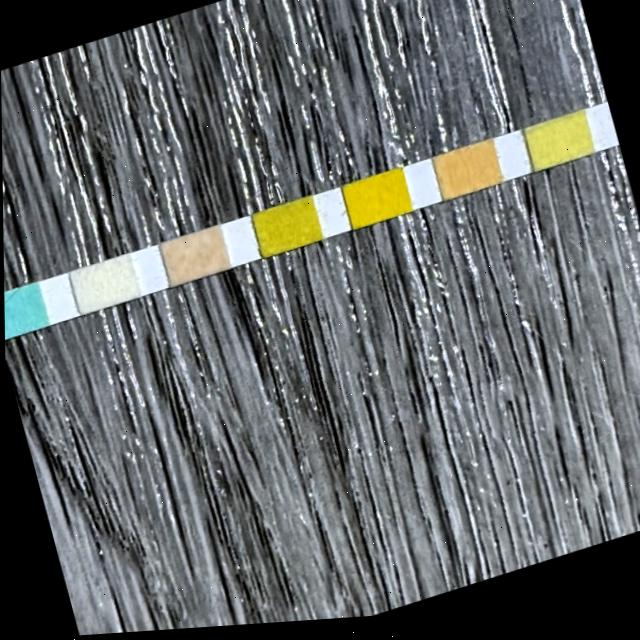Bilirubin: (69, 255, 138, 316)
Blood: (341, 174, 410, 234)
Glucose: (3, 282, 49, 340)
Ketone: (160, 228, 228, 288)
Protein: (523, 117, 594, 177)
SpGravity: (251, 200, 321, 261)
pH: (432, 145, 500, 206)
